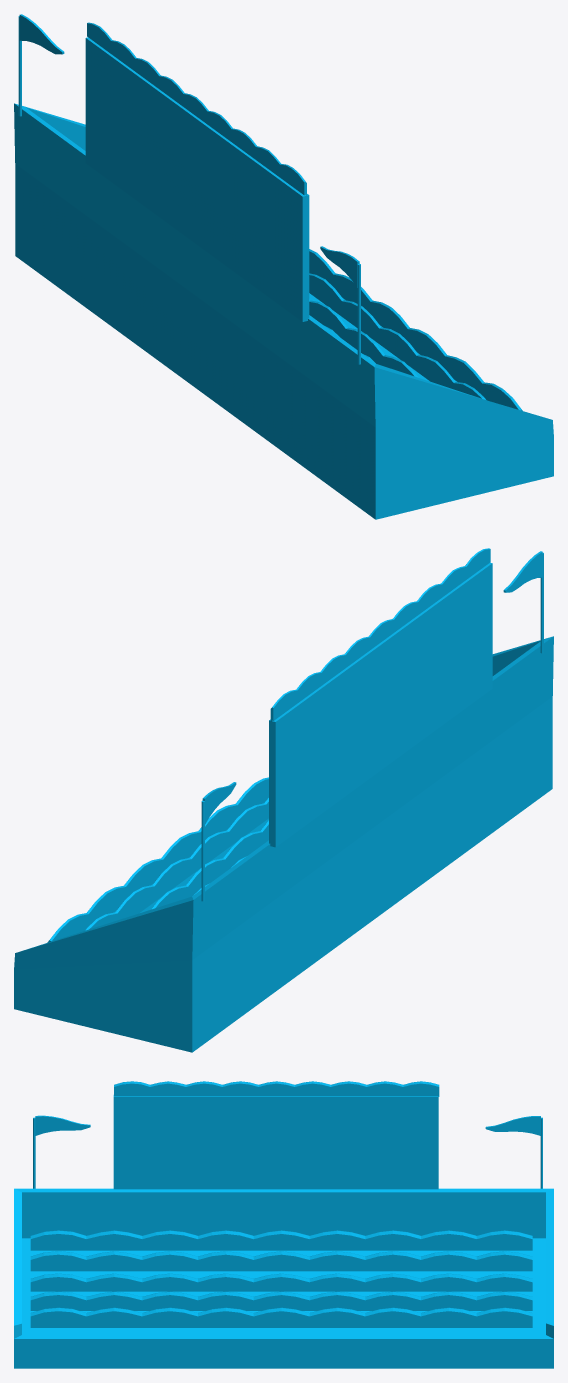
Rendered from caja.fbx.
The picture shows the model from 3 angles, top to bottom: view 1: azimuth 30°, elevation 25°; view 2: azimuth 150°, elevation 25°; view 3: azimuth 270°, elevation 25°; orthographic projection. The views are drawn at different scales.
Parts seen in each view (by area): view 1: Cube; view 2: Cube; view 3: Cube.
Boxes of the visible parts, x1,y1,x2,y2 form: Cube: [14, 14, 553, 519]; Cube: [14, 548, 553, 1052]; Cube: [14, 1081, 553, 1368].
Bounding box in the file's own units: 47.29 × 72.14 × 160.
